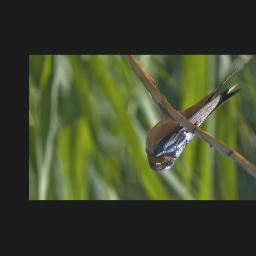Swallow: (145, 64, 244, 173)
